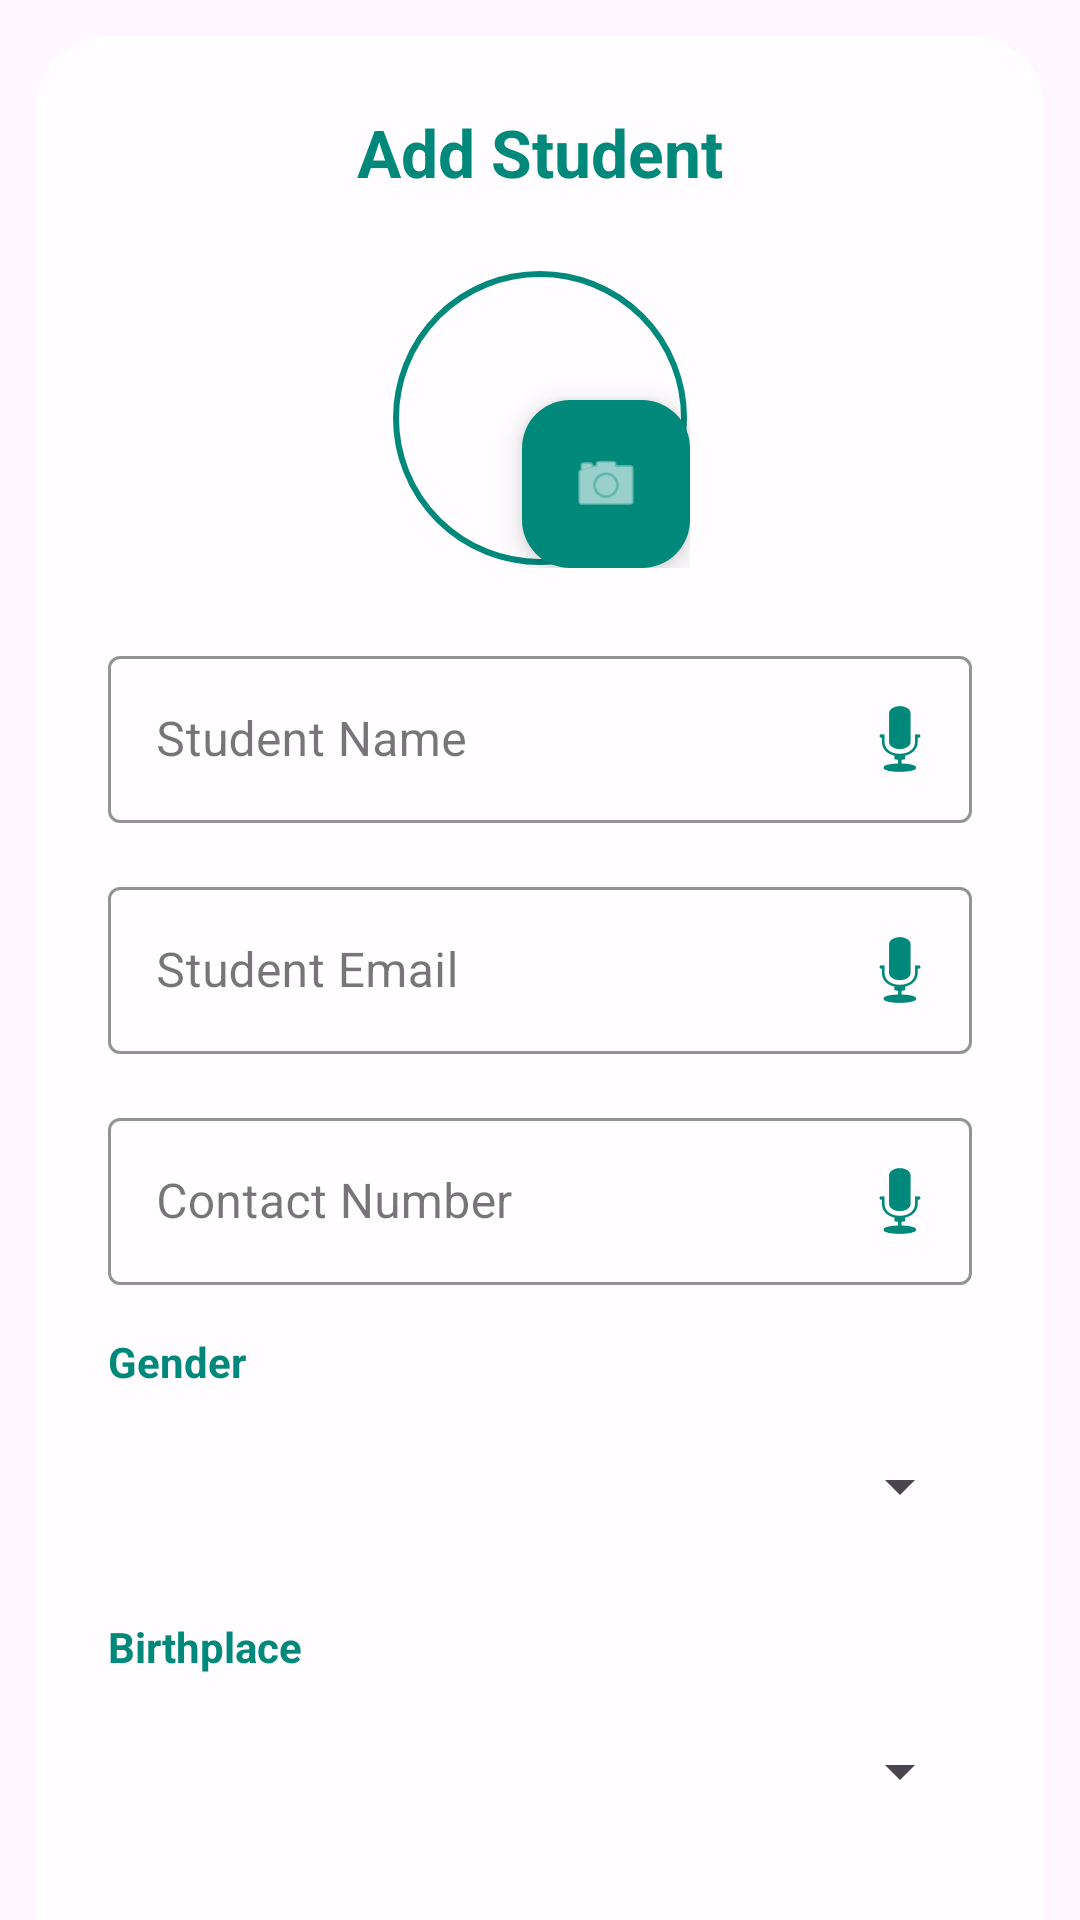

Where icons sit on this 1080 x 1920 app screen, as {"x1": x1, "y1": y1, "x2": x2, "y2": y2}:
camera: {"x1": 522, "y1": 400, "x2": 690, "y2": 568}
